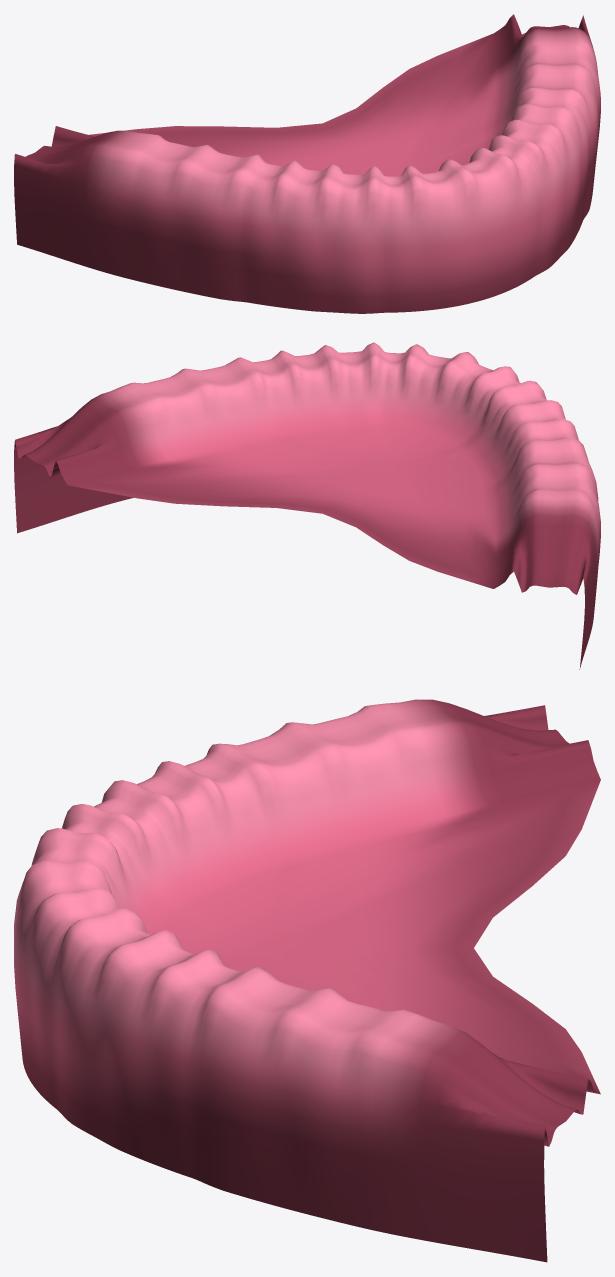
The model's file is gum_lower.glb.
3 views of the same model, one above another, from view 1: azimuth 30°, elevation 25°; view 2: azimuth 150°, elevation 25°; view 3: azimuth 270°, elevation 25° (orthographic). The views are drawn at different scales.
Parts seen in each view (by area): view 1: gum_lower; view 2: gum_lower; view 3: gum_lower.
Boxes of the visible parts, x1,y1,x2,y2 form: gum_lower: (14, 14, 600, 313); gum_lower: (14, 342, 600, 669); gum_lower: (14, 699, 600, 1262).
Bounding box in the file's own units: 12.3 × 2.64 × 7.24.
